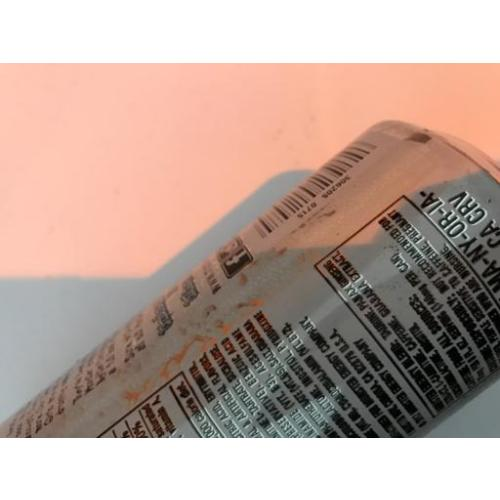metal: (0, 122, 500, 432)
